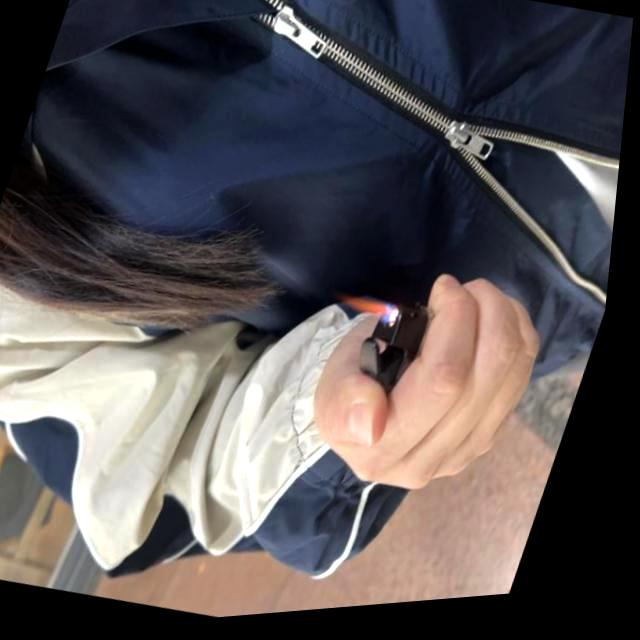fire: (342, 293, 404, 331)
